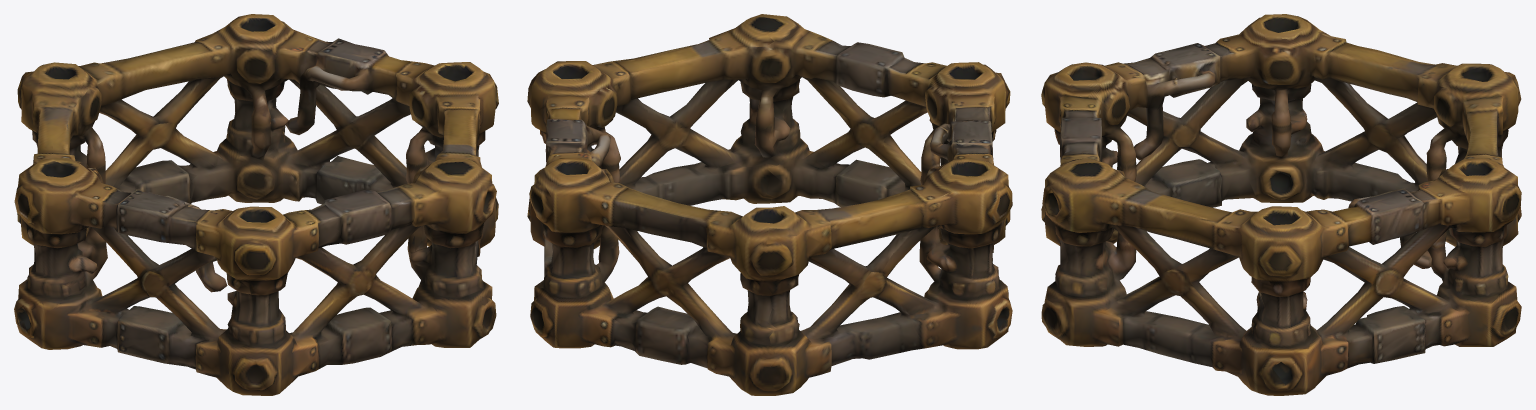
File: Brasswake expansion frame.glb
3 views of the same model, side by side, from view 1: azimuth 30°, elevation 25°; view 2: azimuth 150°, elevation 25°; view 3: azimuth 270°, elevation 25° (orthographic).
Parts seen in each view (by area): view 1: MechanicalFrame; view 2: MechanicalFrame; view 3: MechanicalFrame.
Boxes of the visible parts, bbox=[...] form: MechanicalFrame: bbox=[14, 14, 498, 395]; MechanicalFrame: bbox=[527, 14, 1012, 395]; MechanicalFrame: bbox=[1041, 14, 1521, 395].
Bounding box in the file's own units: 1.4 × 0.4838 × 1.25.
1 material, 1 textured.
